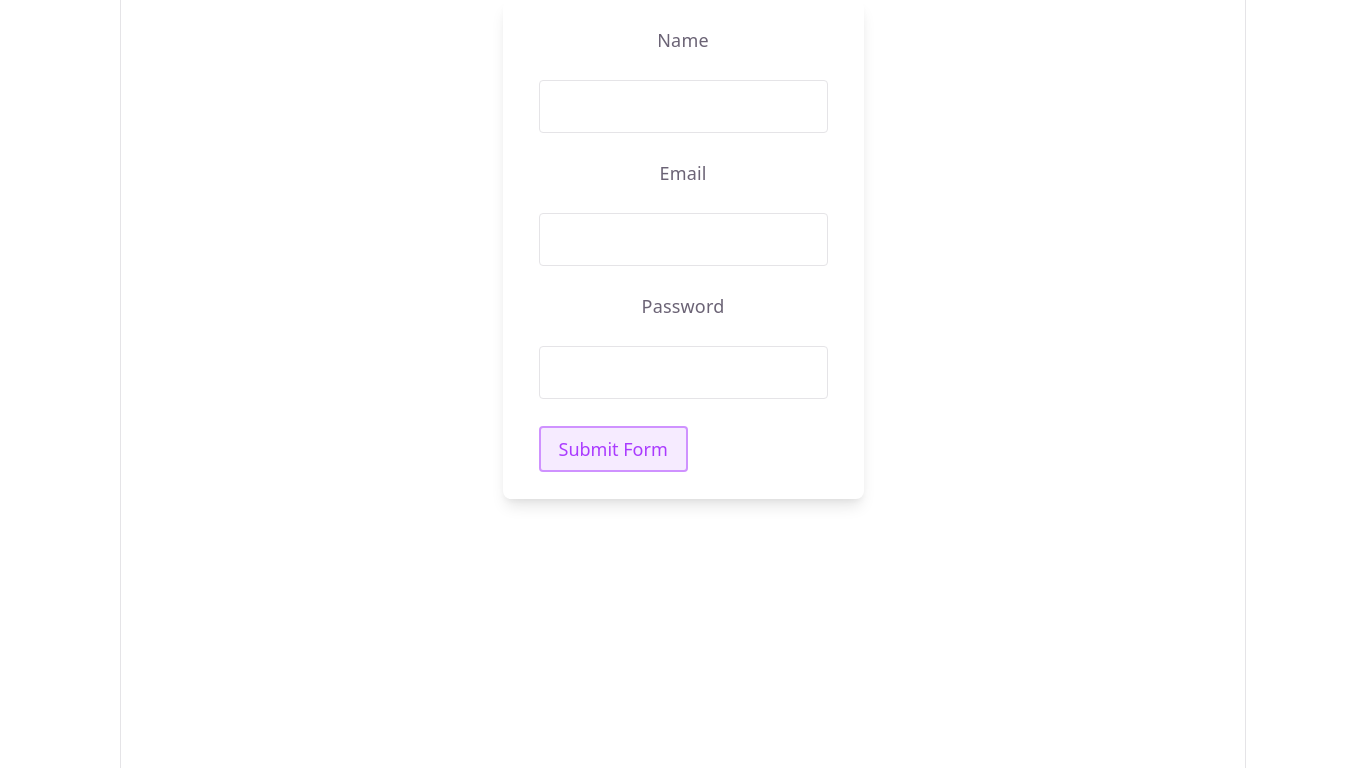
Test case: SignupFormPractice › shows validation errors for invalid email
Type "Tom" into the field labelled "Name" at (683, 107), box [538,80,828,133]
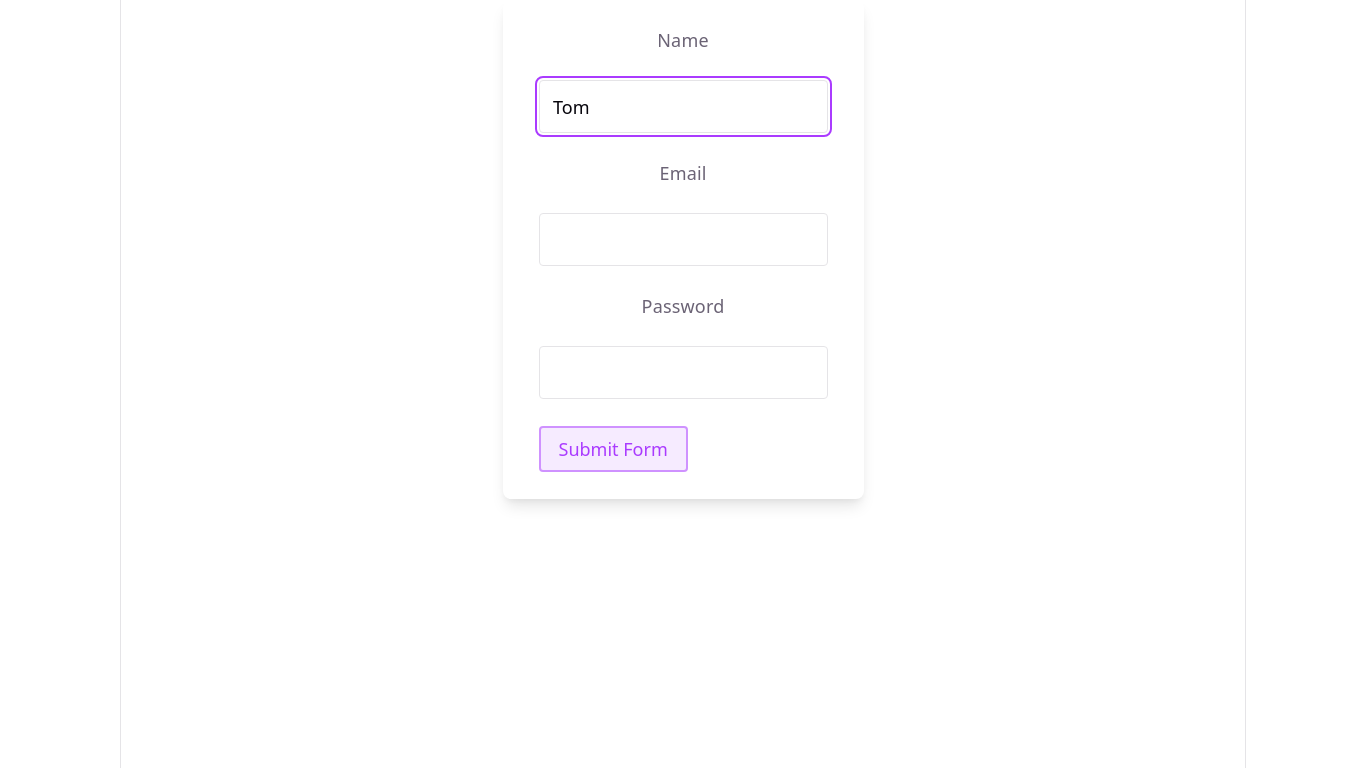
Type "Tomtest.com" into the field labelled "Email" at (683, 240), box [538,213,828,266]
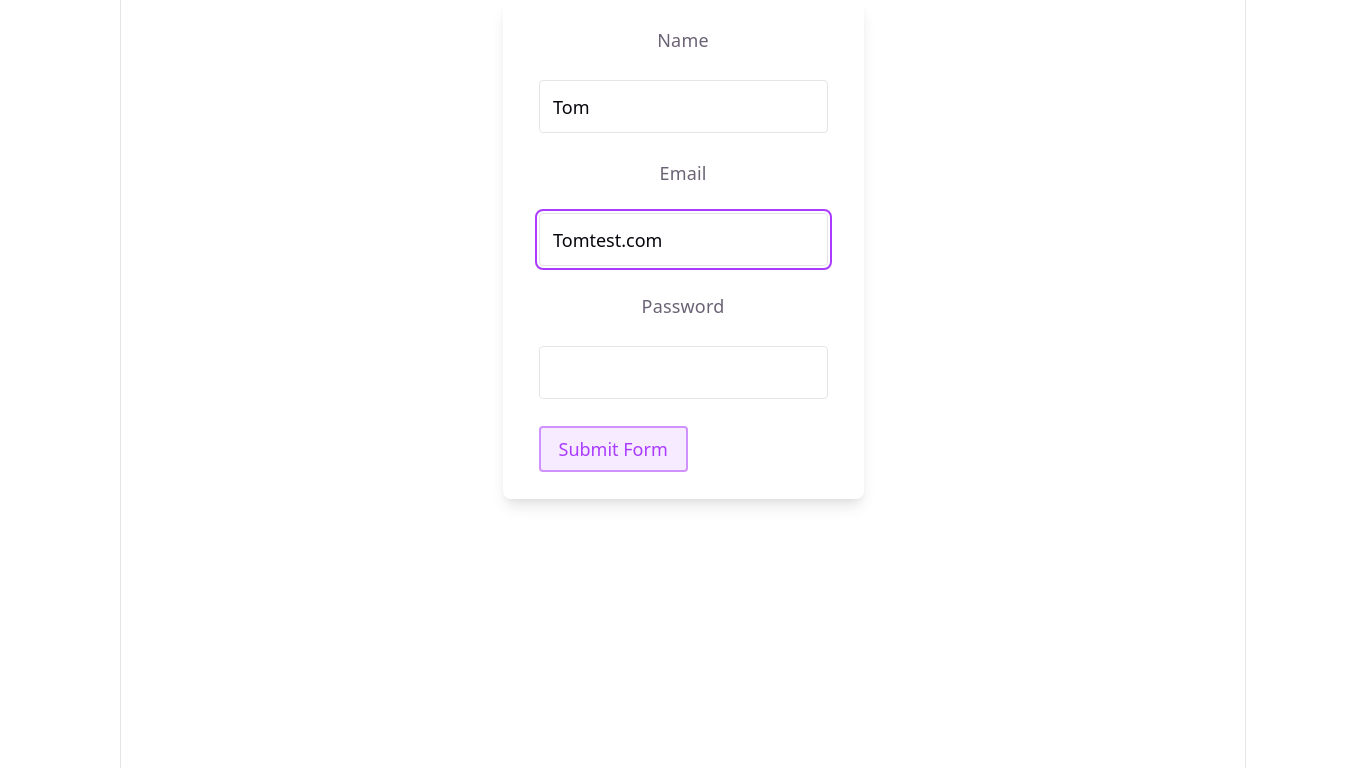
Type "testing1" into the password field labelled "Password" at (683, 373), box [538,346,828,399]
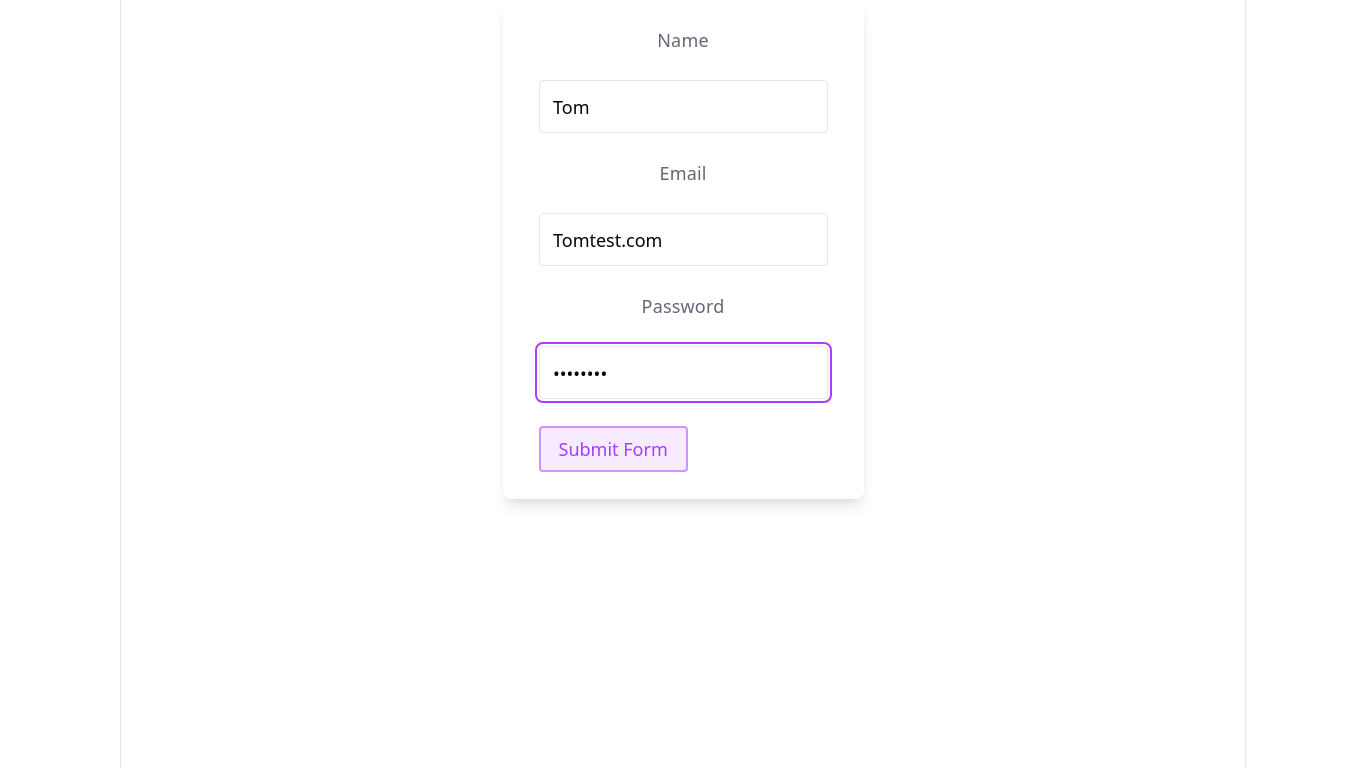
Click the button "Submit Form" at (613, 449), box [538,426,688,472]
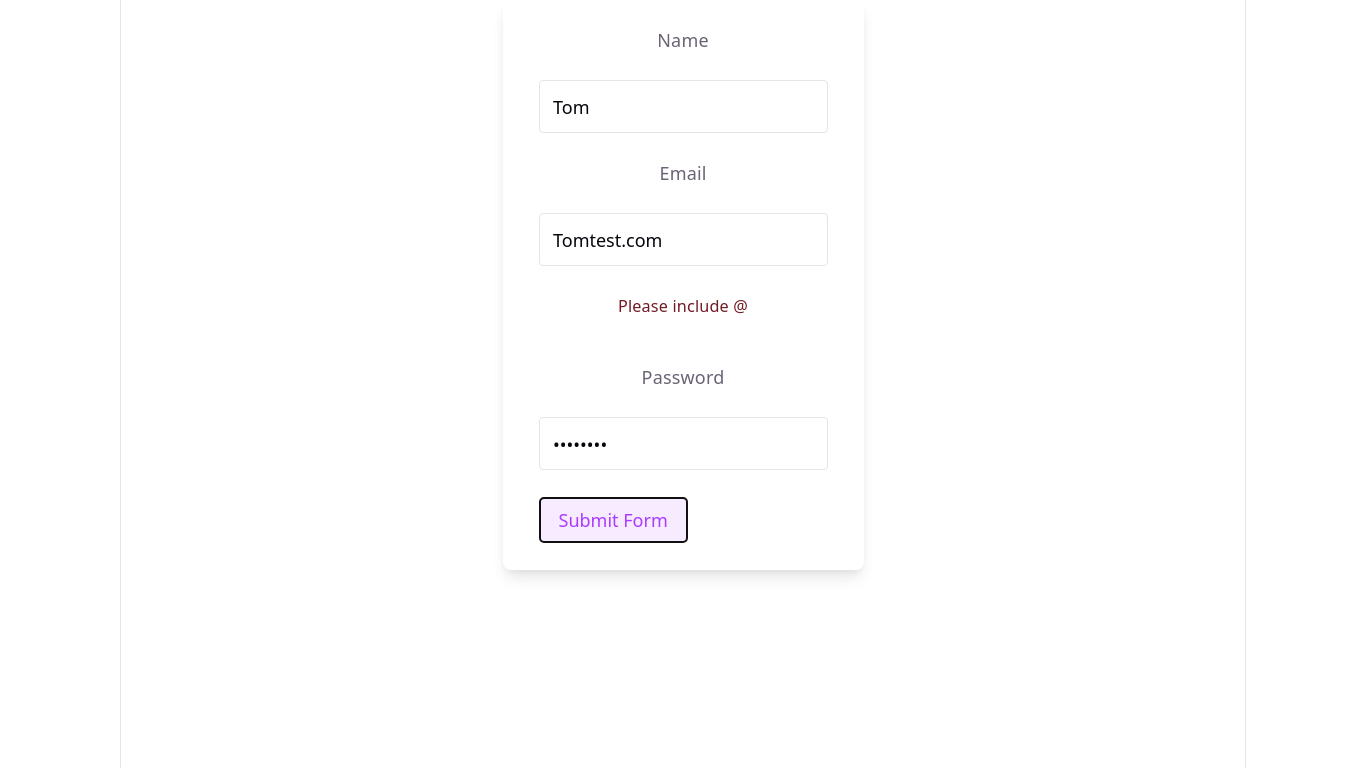
Result: the text "Please include @" is shown at [618,295,748,317]
